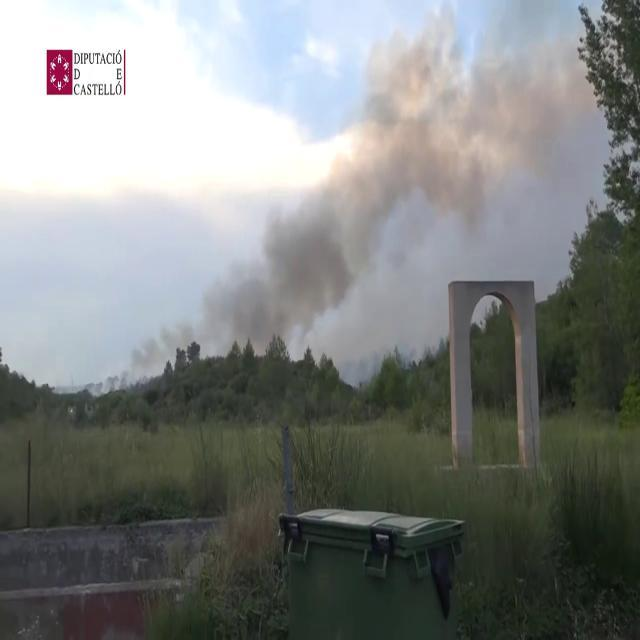Smoke: (220, 5, 558, 364)
